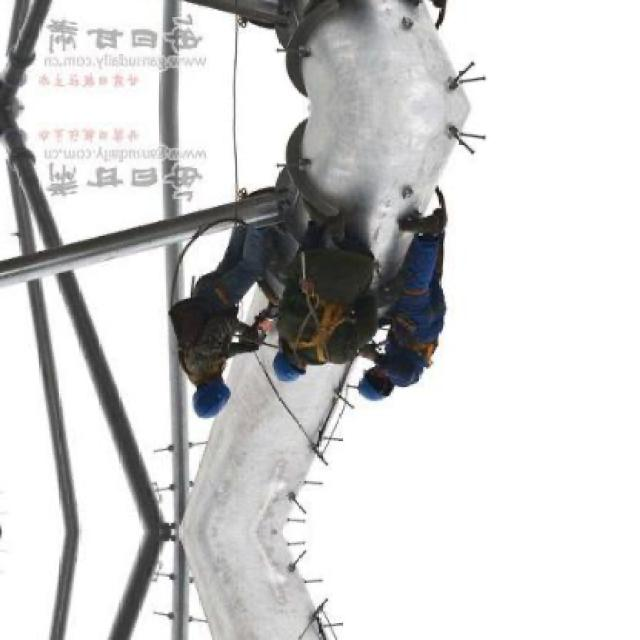con casco: (351, 366, 422, 414), (182, 379, 238, 425), (271, 347, 328, 387)
